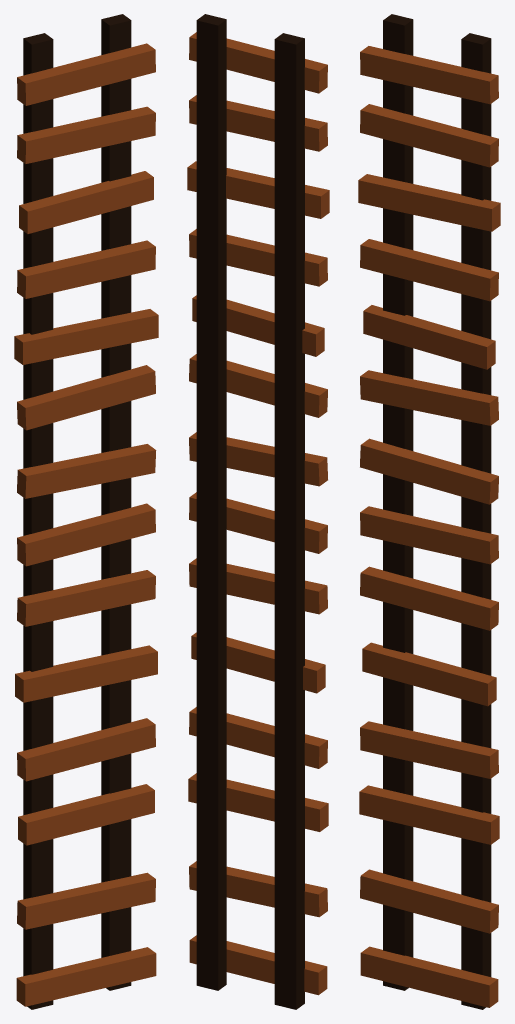
Rendered from ladder.FBX.
The picture shows the model from 3 angles, left to right: view 1: azimuth 30°, elevation 25°; view 2: azimuth 150°, elevation 25°; view 3: azimuth 330°, elevation 25°; orthographic projection.
Parts seen in each view (by area): view 1: Quader001, Quader002, Quader007, Quader012, Quader016, Quader008, Quader010, Quader013, Quader003, Quader006, Quader004, Quader015 (+4 smaller); view 2: Quader002, Quader001, Quader005, Quader014, Quader008, Quader003, Quader013, Quader010, Quader006, Quader004, Quader016, Quader015 (+4 smaller); view 3: Quader001, Quader002, Quader005, Quader014, Quader009, Quader011, Quader015, Quader004, Quader006, Quader016, Quader003, Quader010 (+4 smaller).
Part boxes in pixels (box(x1,y1,x2,y2)): Quader001: box(23, 33, 53, 1009); Quader002: box(101, 14, 131, 990); Quader007: box(14, 309, 158, 364); Quader012: box(15, 645, 157, 702); Quader016: box(16, 947, 156, 1006); Quader008: box(17, 365, 155, 430); Quader010: box(17, 503, 155, 566); Quader013: box(17, 718, 155, 781); Quader003: box(17, 43, 155, 105); Quader006: box(17, 240, 155, 298); Quader004: box(17, 106, 155, 163); Quader015: box(17, 872, 155, 929); Quader002: box(196, 14, 226, 990); Quader001: box(274, 33, 304, 1009); Quader005: box(187, 161, 329, 218); Quader014: box(188, 773, 328, 831); Quader008: box(189, 354, 327, 417); Quader003: box(189, 32, 327, 93); Quader013: box(189, 707, 327, 768); Quader010: box(189, 492, 327, 553); Quader006: box(189, 229, 327, 286); Quader004: box(189, 95, 327, 151); Quader016: box(189, 935, 327, 995); Quader015: box(189, 861, 327, 917); Quader001: box(383, 14, 413, 990); Quader002: box(461, 33, 491, 1009); Quader005: box(358, 174, 500, 231); Quader014: box(359, 785, 499, 844); Quader009: box(360, 438, 498, 504); Quader011: box(360, 566, 498, 630); Quader015: box(360, 869, 498, 933); Quader004: box(360, 104, 498, 167); Quader006: box(360, 239, 498, 301); Quader016: box(360, 946, 498, 1007); Quader003: box(360, 46, 498, 104); Quader010: box(360, 506, 498, 564).
Size of the model in its own units: 0.3067 by 0.0817 by 2.16.
